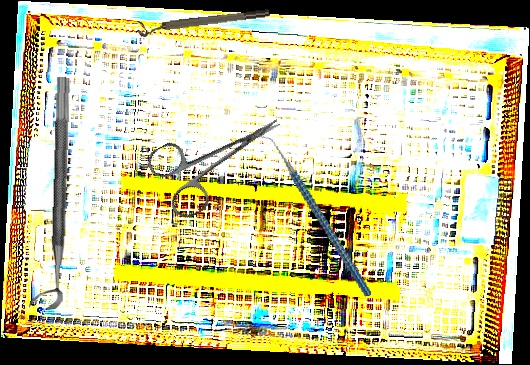Chopper: (256, 117, 372, 313)
Fixation Ring: (28, 76, 72, 310), (136, 7, 271, 38)
Iris Scissors: (143, 90, 299, 224)
